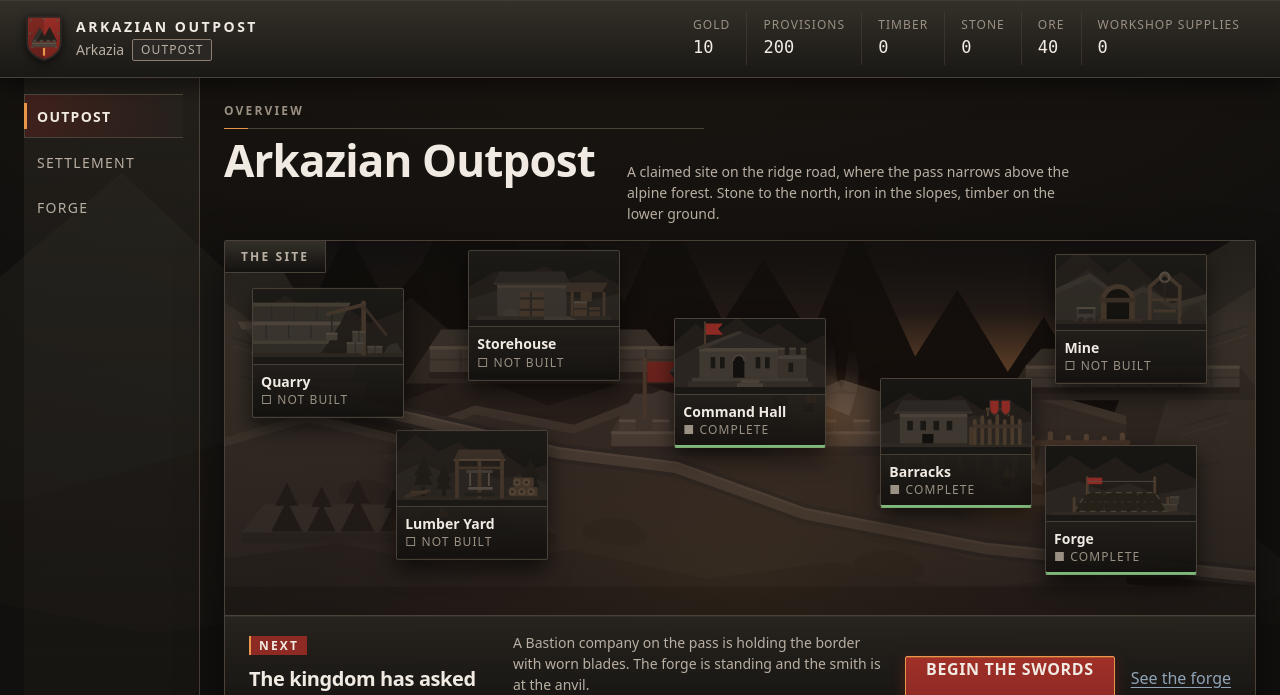
it: Construction — the Command Hall unlocks Barracks and Forge › completing the Forge adds the forge area and nothing to the settlement screen
The width and height of the screenshot is (1280, 695).
Step 1. Click the link "Settlement" → (86, 162), box [37,152,135,171]
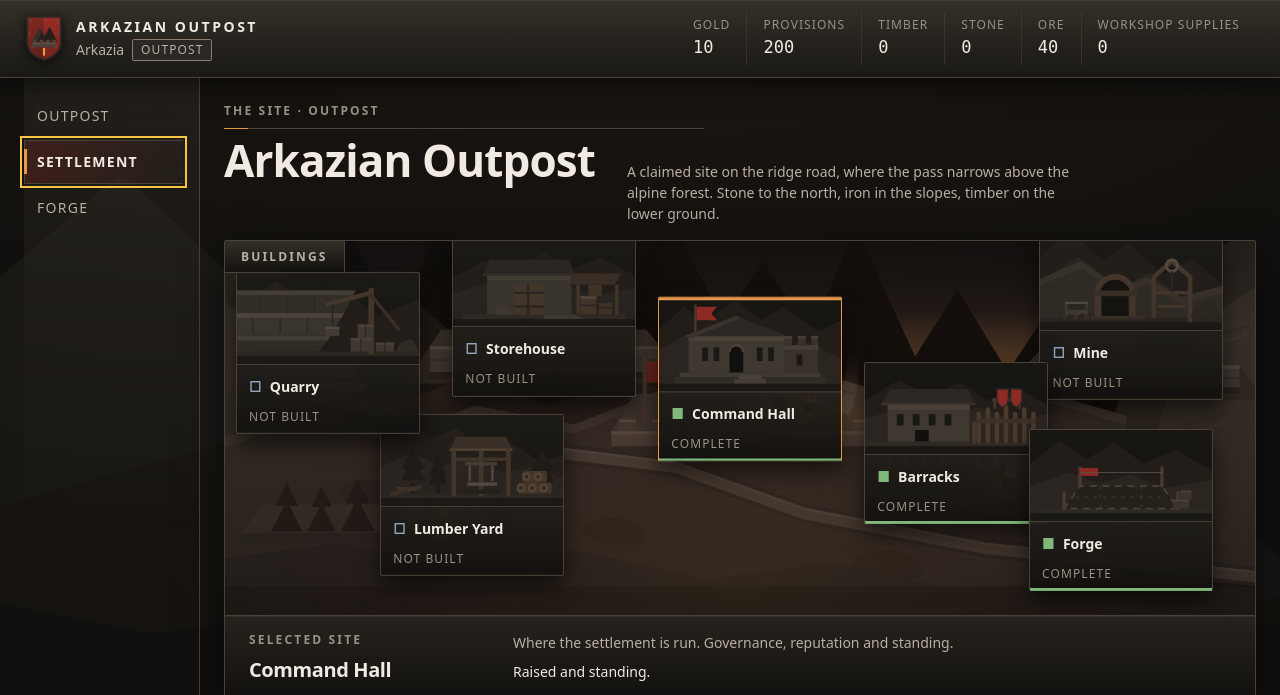
Check: the link "Forge" is shown, box [37,198,88,217]
Check: the text "company" is gone
